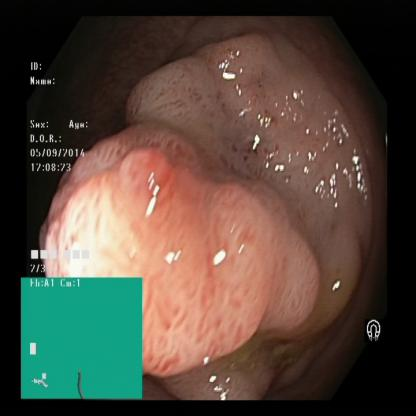Labels: (21, 275, 143, 401), (28, 56, 95, 278), (364, 314, 384, 344)
Polyps: (51, 144, 265, 372), (212, 191, 324, 326)
